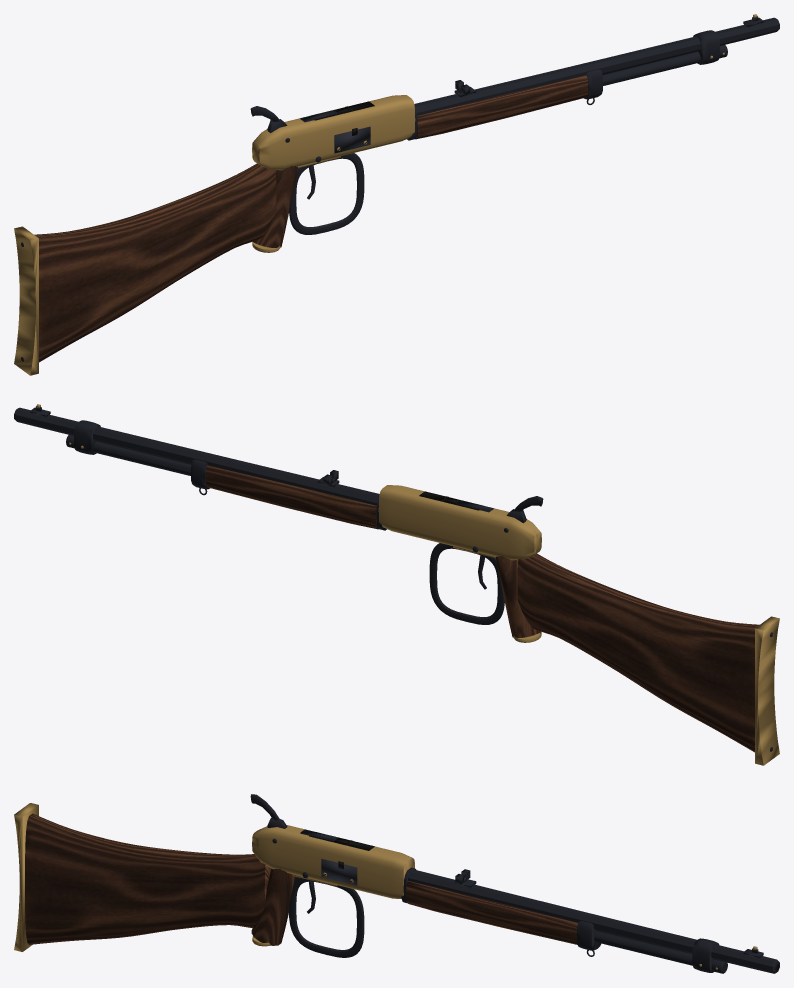
The model's file is gear_frontier_rifle.glb.
3 views of the same model, one above another, from view 1: azimuth 30°, elevation 25°; view 2: azimuth 150°, elevation 25°; view 3: azimuth 330°, elevation 25° (orthographic).
Parts seen in each view (by area): view 1: gear_frontier_rifle; view 2: gear_frontier_rifle; view 3: gear_frontier_rifle.
Part boxes in pixels (x1,y1,x2,y2): gear_frontier_rifle: (14, 14, 779, 375); gear_frontier_rifle: (14, 404, 779, 765); gear_frontier_rifle: (14, 794, 779, 973).
Bounding box in the file's own units: 1.13 × 0.2961 × 0.0424.
7 materials, 1 textured.
